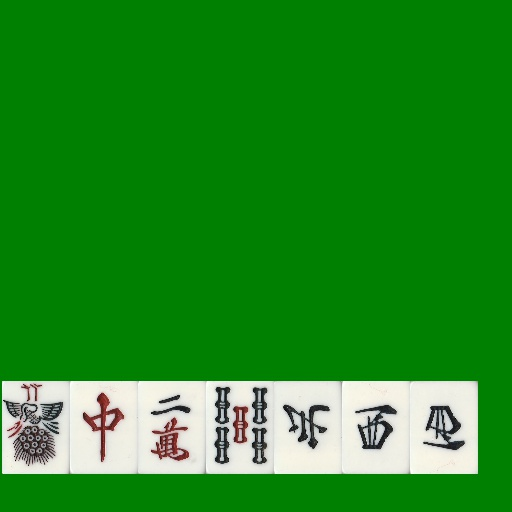1s: (2, 381, 70, 474)
2m: (138, 381, 206, 474)
5s: (206, 381, 274, 474)
north: (274, 381, 342, 474)
tyun: (70, 381, 138, 474)
west: (342, 381, 410, 474), (410, 381, 478, 474)
